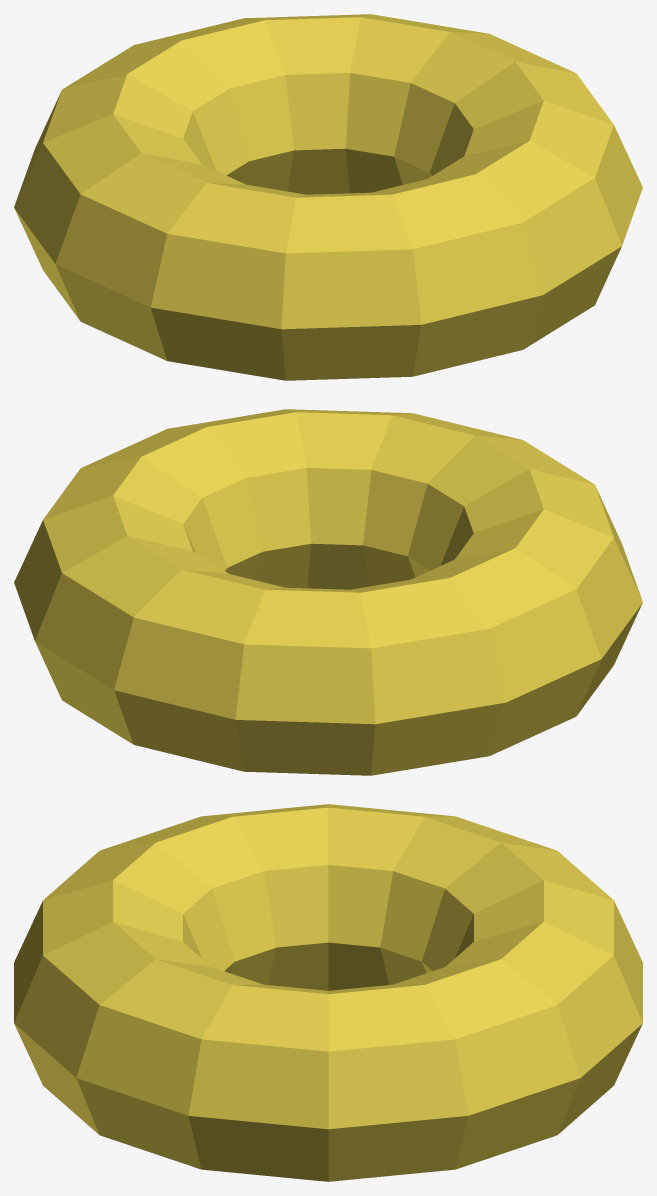
The model's file is GoldenTire.fbx.
3 renders of one model, top to bottom at view 1: azimuth 30°, elevation 25°; view 2: azimuth 150°, elevation 25°; view 3: azimuth 270°, elevation 25°, orthographic. The views are drawn at different scales.
Parts seen in each view (by area): view 1: Torus; view 2: Torus; view 3: Torus.
Boxes of the visible parts, bbox=[...] form: Torus: bbox=[14, 14, 642, 380]; Torus: bbox=[14, 409, 642, 775]; Torus: bbox=[14, 804, 642, 1181].
Size of the model in its own units: 292 by 92 by 285.
